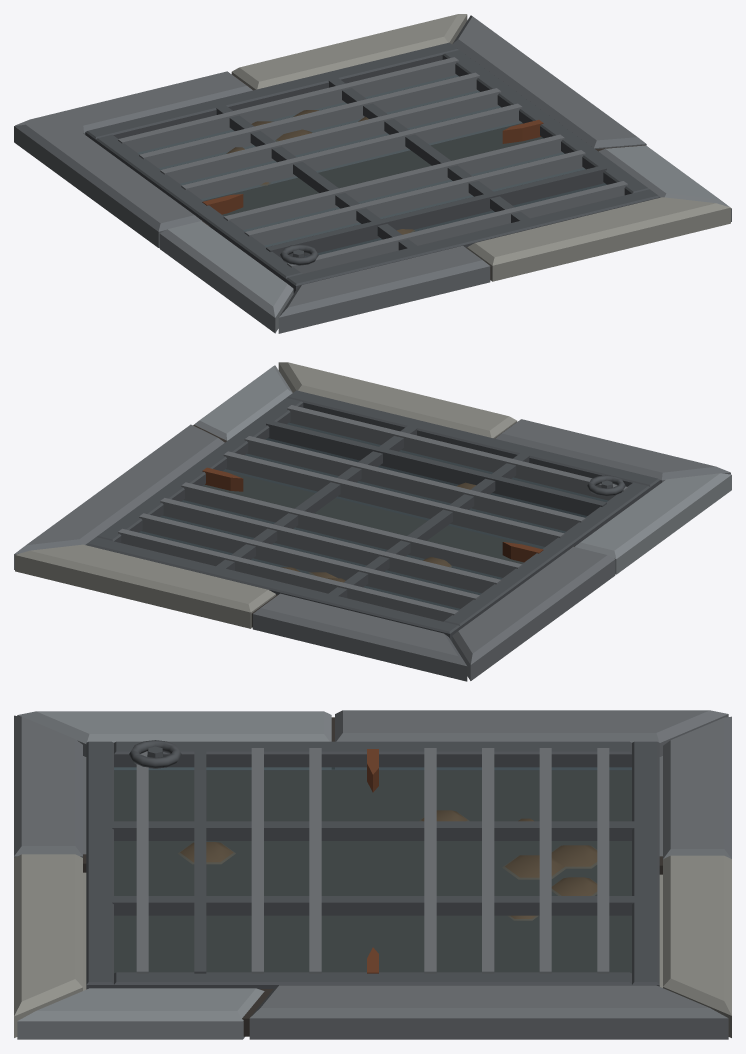
File: SM_LPD_Door_FloorGrate_01.fbx
The picture shows the model from 3 angles, top to bottom: view 1: azimuth 30°, elevation 25°; view 2: azimuth 150°, elevation 25°; view 3: azimuth 270°, elevation 25°; orthographic projection. The views are drawn at different scales.
Parts seen in each view (by area): view 1: SM_LPD_Door_FloorGrate_01; view 2: SM_LPD_Door_FloorGrate_01; view 3: SM_LPD_Door_FloorGrate_01.
Part boxes in pixels (box(x1,y1,x2,y2)): SM_LPD_Door_FloorGrate_01: box(14, 14, 731, 333); SM_LPD_Door_FloorGrate_01: box(14, 362, 731, 681); SM_LPD_Door_FloorGrate_01: box(14, 710, 731, 1039).
Bounding box in the file's own units: 1.3 × 0.0717 × 1.3.
